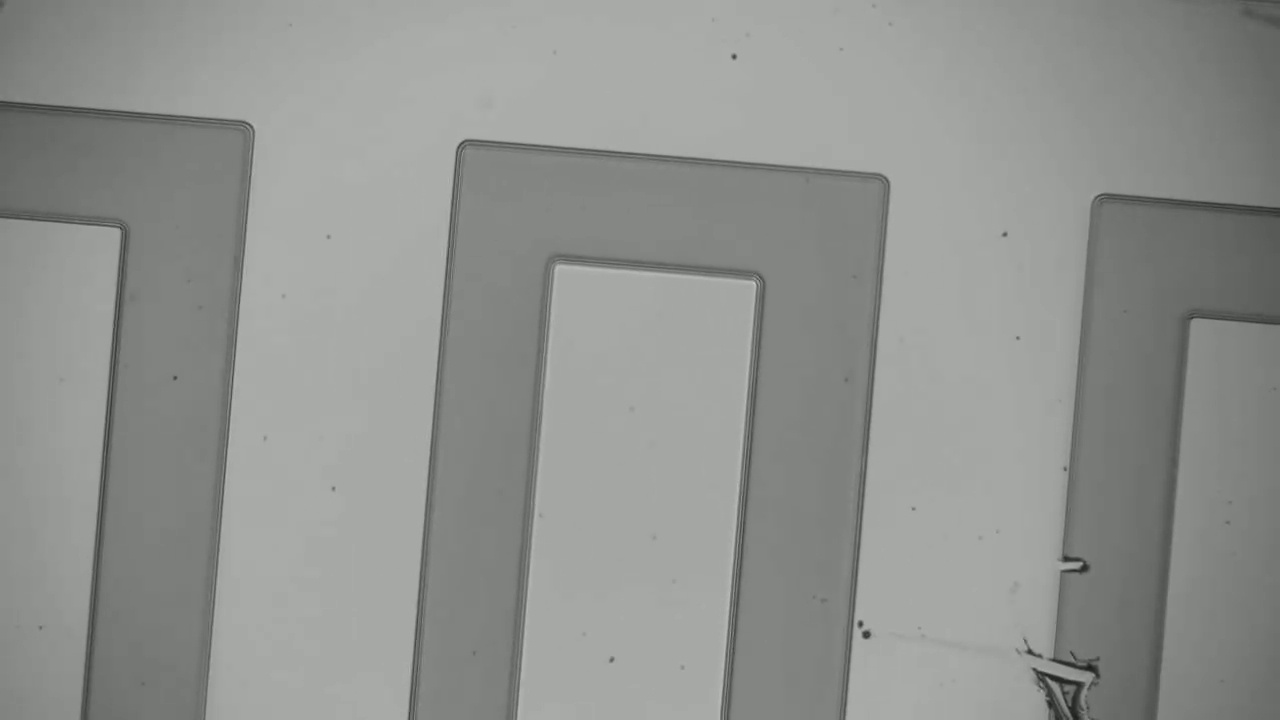Short_circuit: (1013, 638, 1170, 697)
